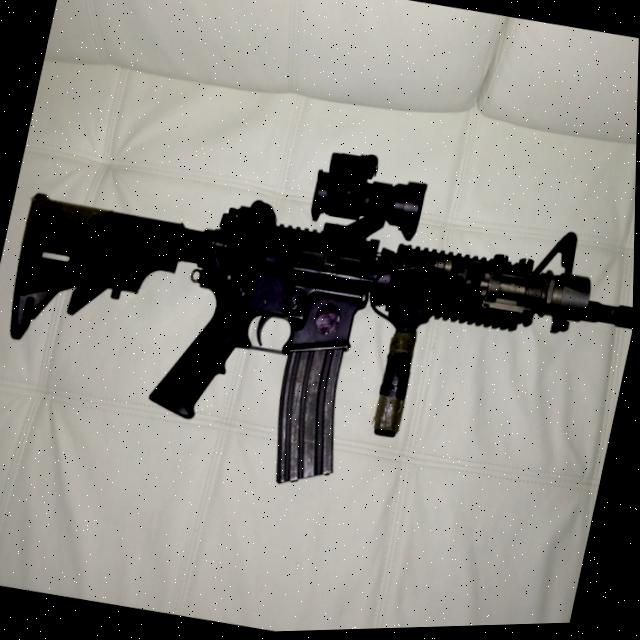firearm: (0, 83, 638, 553)
